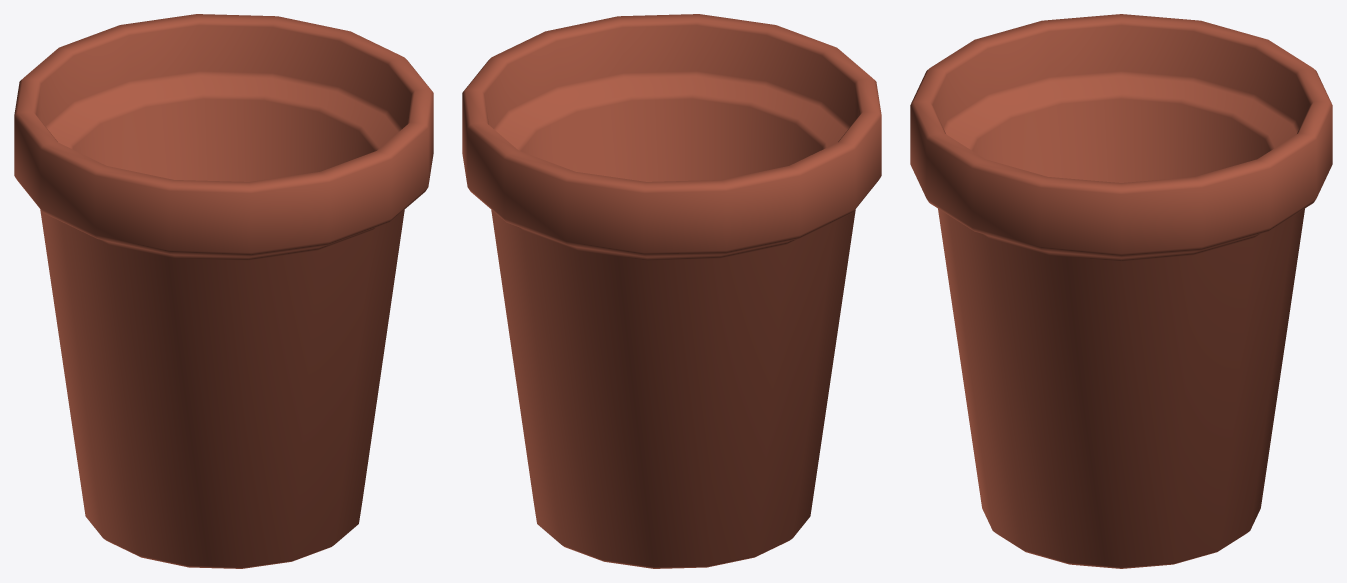
File: FlowerPot.fbx
3 renders of one model, left to right at view 1: azimuth 30°, elevation 25°; view 2: azimuth 150°, elevation 25°; view 3: azimuth 270°, elevation 25°, orthographic.
Parts seen in each view (by area): view 1: pot de plante; view 2: pot de plante; view 3: pot de plante.
Boxes of the visible parts, box(x1,y1,x2,y2) form: pot de plante: box(14, 14, 433, 568); pot de plante: box(462, 14, 881, 568); pot de plante: box(910, 14, 1332, 568).
Size of the model in its own units: 70 by 74.98 by 70.
